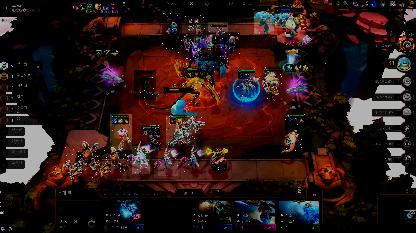1_bard: (206, 148, 230, 174)
1_jayce: (102, 146, 126, 176)
1_soraka: (158, 148, 178, 176), (184, 153, 202, 173)
1_yasuo: (213, 36, 229, 66)
1_zac: (254, 12, 274, 34), (275, 14, 293, 28)
1_zyra: (208, 22, 228, 38)
2_graves: (162, 12, 182, 50)
2_jax: (236, 68, 258, 100)
2_jayce: (64, 144, 100, 178), (166, 116, 196, 146)
2_joy: (285, 113, 305, 153)
2_leesin: (222, 32, 240, 54)
2_nasus: (134, 70, 156, 100)
2_pantheon: (186, 34, 202, 68)
2_rakan: (175, 33, 191, 59)
2_seraphine: (198, 31, 216, 49)
2_soraka: (132, 146, 150, 174)
2_twitch: (140, 125, 162, 147)
2_volibear: (262, 66, 282, 102)
2_xayah: (110, 114, 132, 150)
2_zac: (198, 52, 220, 82)
2_zeri: (184, 15, 206, 39)
3_idas: (182, 68, 208, 104)
